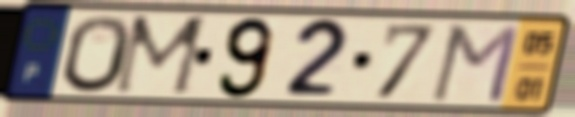2: (277, 16, 357, 103)
7: (377, 20, 443, 103)
9: (213, 15, 280, 101)
M: (109, 13, 214, 99), (426, 22, 523, 107)
O: (59, 13, 135, 96)
